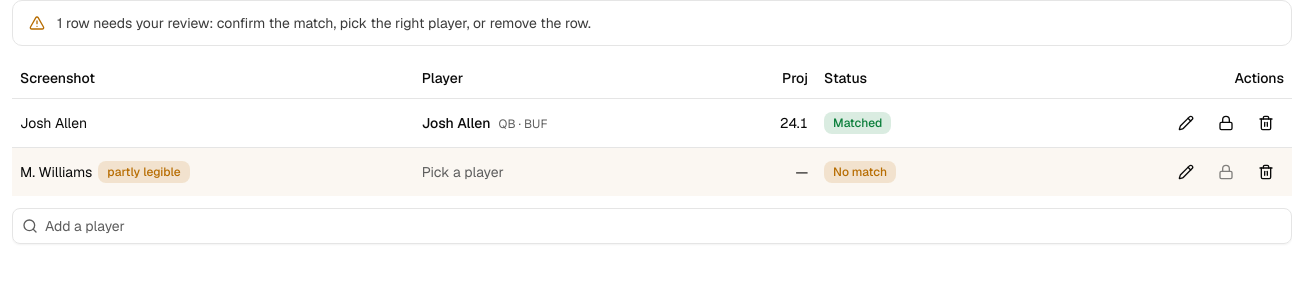
ReviewTable › shows search errors
The width and height of the screenshot is (1304, 287).
Type "jos" into the field with placeholder "Add a player" at (652, 226), box [12,208,1292,244]
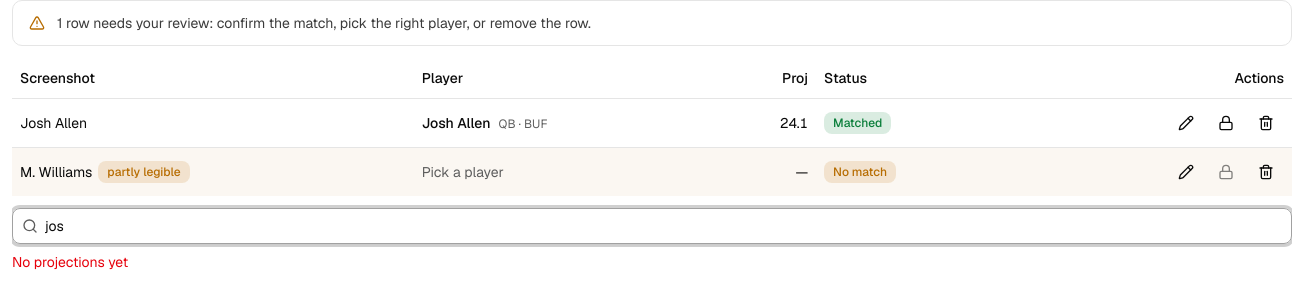
expect the text "No projections yet" is shown: met, box [12,252,128,270]
